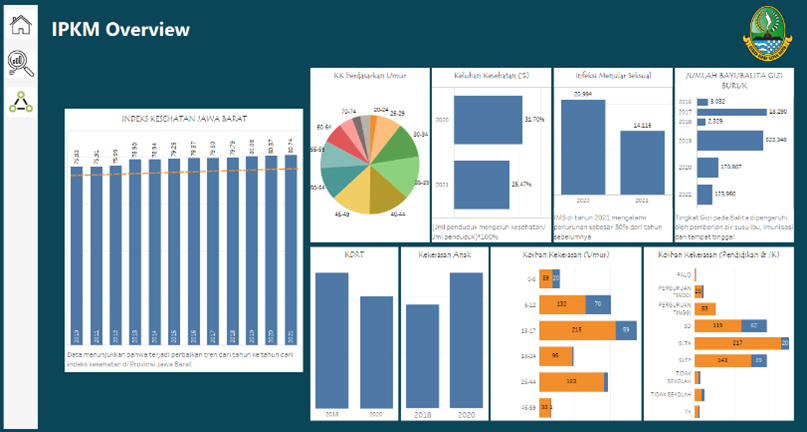

The page's visual inventory and layout, read from the dashboard file:
{"tool":"tableau","page":{"name":"IPKM Overview","canvas":[1000,1000],"units":"permille","ordinal":2},"visuals":[{"type":"image","param":"Image/Logo-propinsi-jawa-barat.png","box":[906.5,23.7,75.3,126.7]},{"type":"dashboard-object","box":[14.5,27,51.6,86.2]},{"type":"text","box":[80.6,27,781.7,131.8]},{"type":"blank","box":[862.3,27,123.2,131.8]},{"type":"dashboard-object","box":[14.5,113.2,51.6,86.1]},{"type":"worksheet","title":"KK berdasarkan Umur","mark":"Pie","box":[385,162.2,148.6,397]},{"type":"worksheet","title":"Keluhan Kesehatan (%)","mark":"Bar","rows":["nama_provinsi","tahun"],"cols":["Calculation_1312236389902917634"],"box":[533.5,162.2,148.6,397]},{"type":"worksheet","title":"Infeksi Menular Seksual","mark":"Bar","rows":["jumlah_kasus_ims"],"cols":["nama_provinsi","tahun"],"box":[682.1,162.2,147.6,397]},{"type":"worksheet","title":"JUMLAH BAYI GIZI BURUK","mark":"Bar","rows":["nama_provinsi","tahun"],"cols":["jumlah_bayi_giziburuk"],"box":[831.5,165.5,144,167.2]},{"type":"dashboard-object","box":[14.5,199.3,51.6,86.2]},{"type":"worksheet","title":"INDEKS KESEHATAN JAWA BARAT","mark":"Bar","rows":["indeks_kesehatan","Calculation_1312236389893996545"],"cols":["nama_provinsi","tahun"],"box":[86.1,256.8,291.2,592.9]},{"type":"blank","box":[14.5,285.5,51.6,86.2]},{"type":"worksheet","title":"JUMLAH BALITA GIZI BURUK","mark":"Bar","rows":["nama_provinsi","tahun"],"cols":["jumlah_balita_giziburuk"],"box":[831.5,332.8,144,223]},{"type":"blank","box":[14.5,371.6,51.6,86.2]},{"type":"worksheet","title":"INDEKS KESEHATAN JAWA BARAT (3)","mark":"Automatic","rows":["indeks_kesehatan","Calculation_1312236389893996545"],"cols":["tahun"],"box":[93.4,380.1,277.5,261.8]},{"type":"blank","box":[14.5,457.8,51.6,86.2]},{"type":"blank","box":[14.5,543.9,51.6,86.2]},{"type":"worksheet","title":"KDRT","mark":"Bar","rows":["total_kdrt"],"cols":["Tahun"],"box":[385,565.9,101.5,395.3]},{"type":"worksheet","title":"Kekerasan Anak","mark":"Bar","rows":["total_kekerasan_anak"],"cols":["Tahun"],"box":[486.4,565.9,101.5,395.3]},{"type":"worksheet","title":"Korban Kekerasan (Umur)","mark":"Automatic","rows":["Calculation_1312236389911375877"],"cols":["jumlah_korban"],"box":[587.9,565.9,194.8,395.3]},{"type":"worksheet","title":"Korban Kekerasan (Pendidikan & JK)","mark":"Automatic","rows":["kategori_pendidikan"],"cols":["jumlah"],"box":[782.6,565.9,194.8,395.3]},{"type":"blank","box":[14.5,630.1,51.6,86.2]},{"type":"blank","box":[14.5,716.2,51.6,86.1]},{"type":"blank","box":[14.5,802.4,51.6,86.2]},{"type":"blank","box":[14.5,888.5,51.6,84.5]}]}

Visuals, with their boxes on the dashboard's canvas, which has no fixed pixel size, in thousandths of its width and height (x1, y1, x2, y2). These are canvas units, not pixel positions in the 807x432 screenshot, which may show the page scaled, cropped or inside an application window:
image: 906:24:982:150
dashboard-object: 14:27:66:113
text: 81:27:862:159
blank: 862:27:986:159
dashboard-object: 14:113:66:199
"KK berdasarkan Umur" worksheet (Pie marks): 385:162:534:559
"Keluhan Kesehatan (%)" worksheet (Bar marks): 534:162:682:559
"Infeksi Menular Seksual" worksheet (Bar marks): 682:162:830:559
"JUMLAH BAYI GIZI BURUK" worksheet (Bar marks): 832:166:976:333
dashboard-object: 14:199:66:286
"INDEKS KESEHATAN JAWA BARAT" worksheet (Bar marks): 86:257:377:850
blank: 14:286:66:372
"JUMLAH BALITA GIZI BURUK" worksheet (Bar marks): 832:333:976:556
blank: 14:372:66:458
"INDEKS KESEHATAN JAWA BARAT (3)" worksheet: 93:380:371:642
blank: 14:458:66:544
blank: 14:544:66:630
"KDRT" worksheet (Bar marks): 385:566:486:961
"Kekerasan Anak" worksheet (Bar marks): 486:566:588:961
"Korban Kekerasan (Umur)" worksheet: 588:566:783:961
"Korban Kekerasan (Pendidikan & JK)" worksheet: 783:566:977:961
blank: 14:630:66:716
blank: 14:716:66:802
blank: 14:802:66:889
blank: 14:888:66:973
